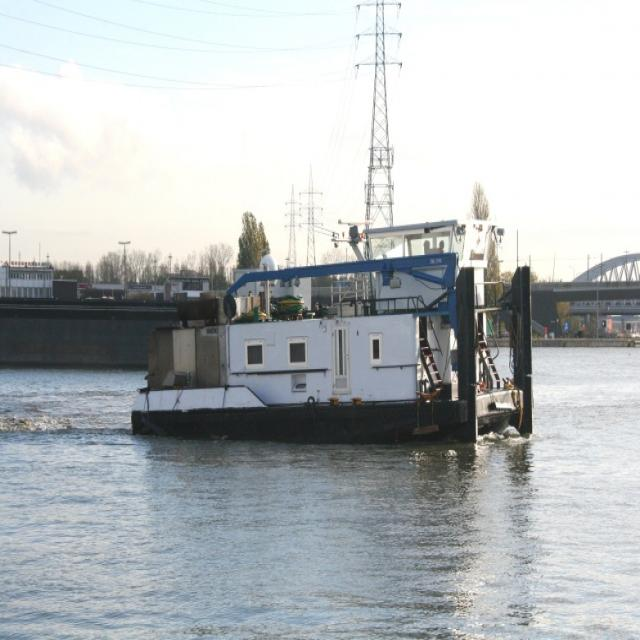tugboat: (128, 222, 538, 453)
